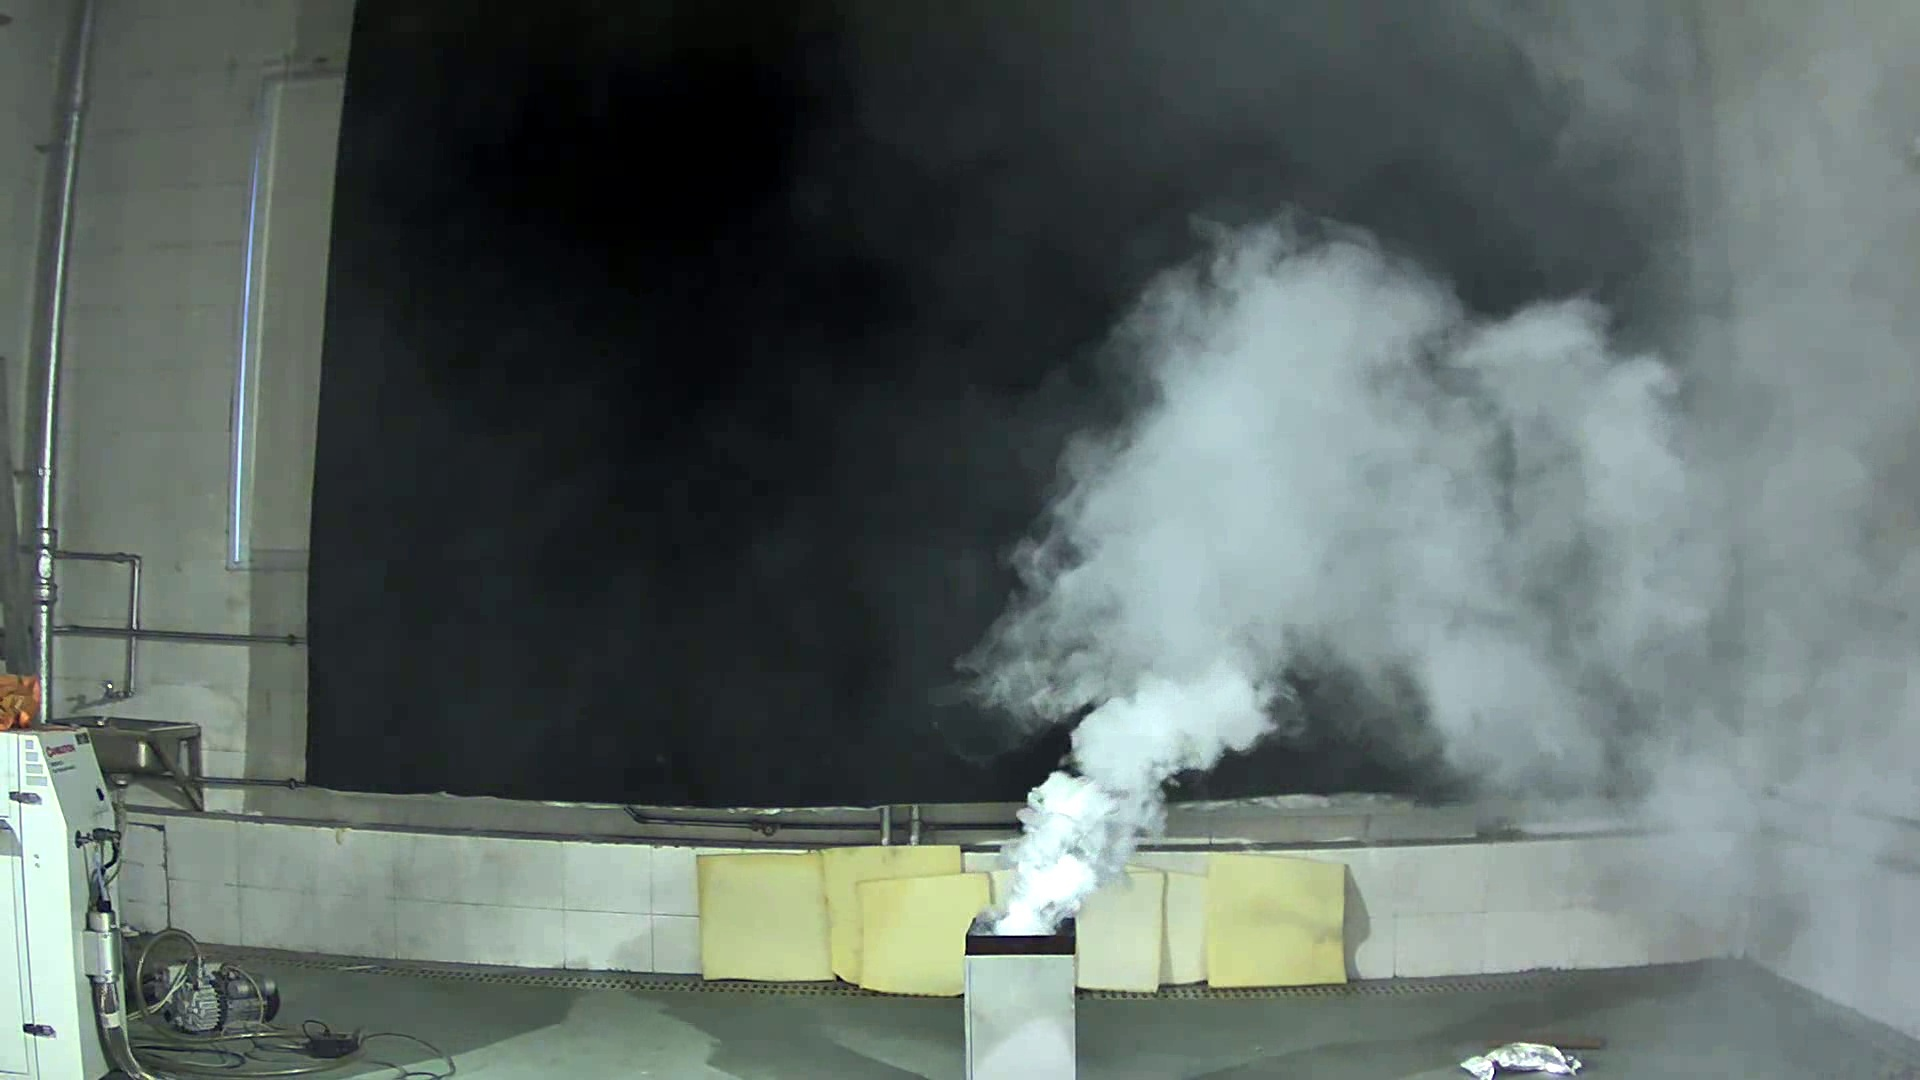smoke: (949, 171, 1846, 949)
